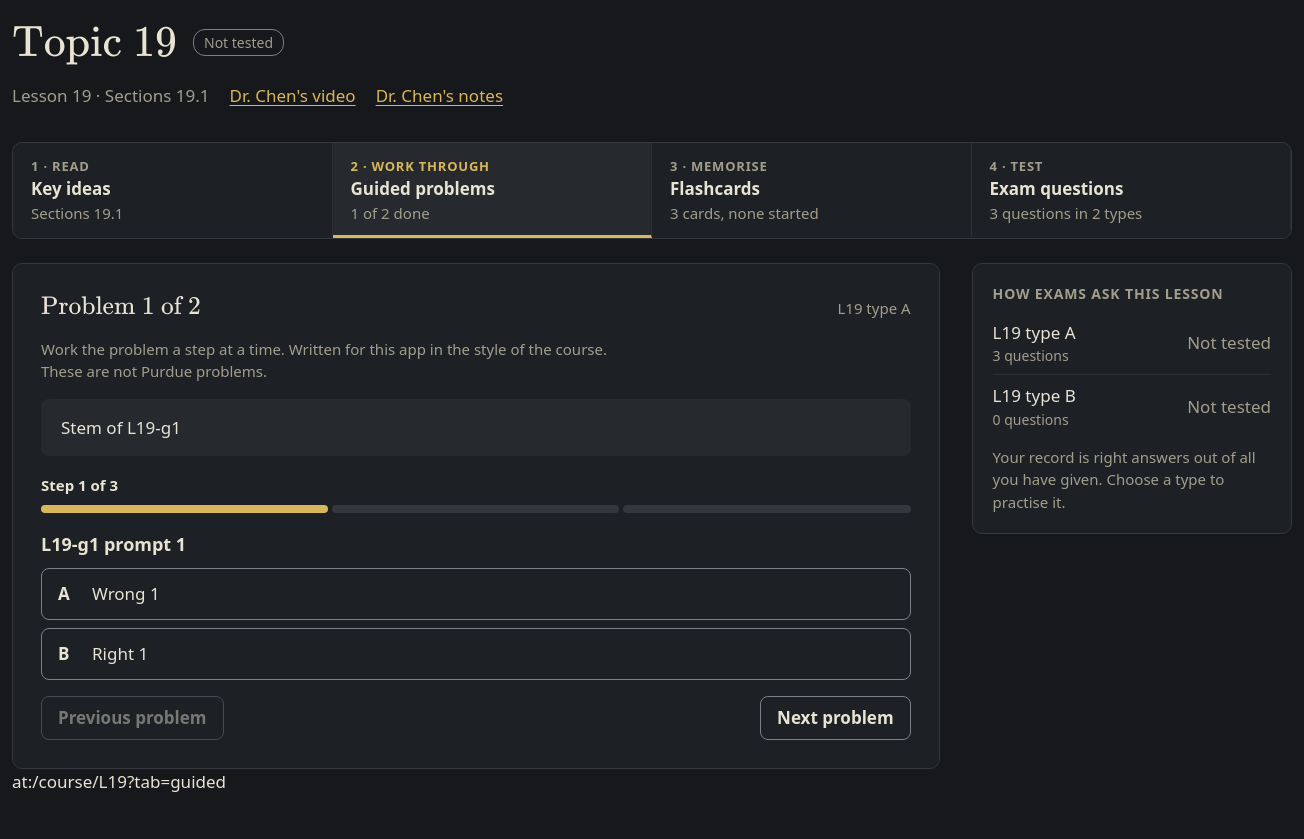
Test case: guided problems are worked one at a time, and are marked done and saved once finished
Check: the text "These are not Purdue problems" is shown, box left=41, top=338, right=607, bottom=381
Check: the heading "Problem 1 of 2" is shown, box left=41, top=292, right=201, bottom=322
Click the button "B Right 1" at (120, 653), box left=41, top=628, right=911, bottom=680
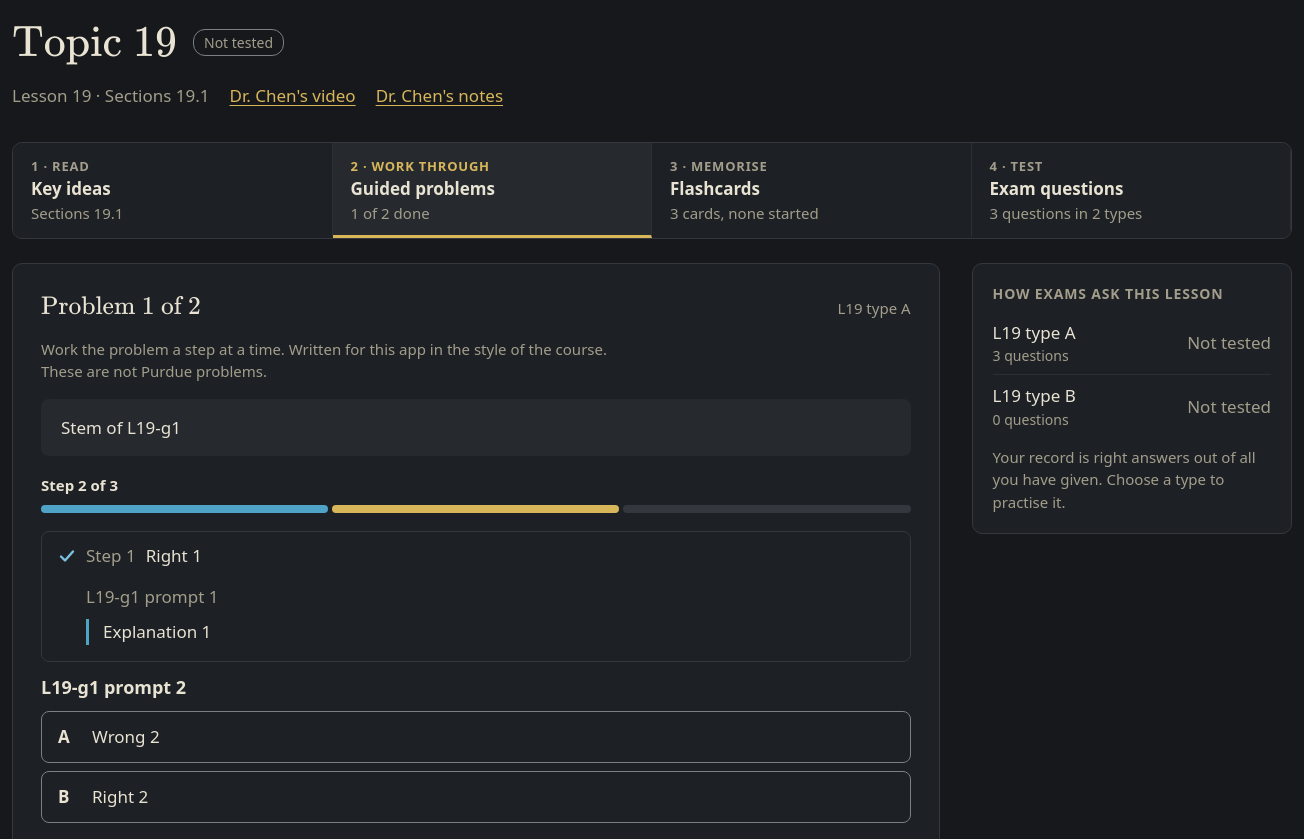
Click the button "B Right 2" at (120, 796), box left=41, top=770, right=911, bottom=822
(page scrolled)
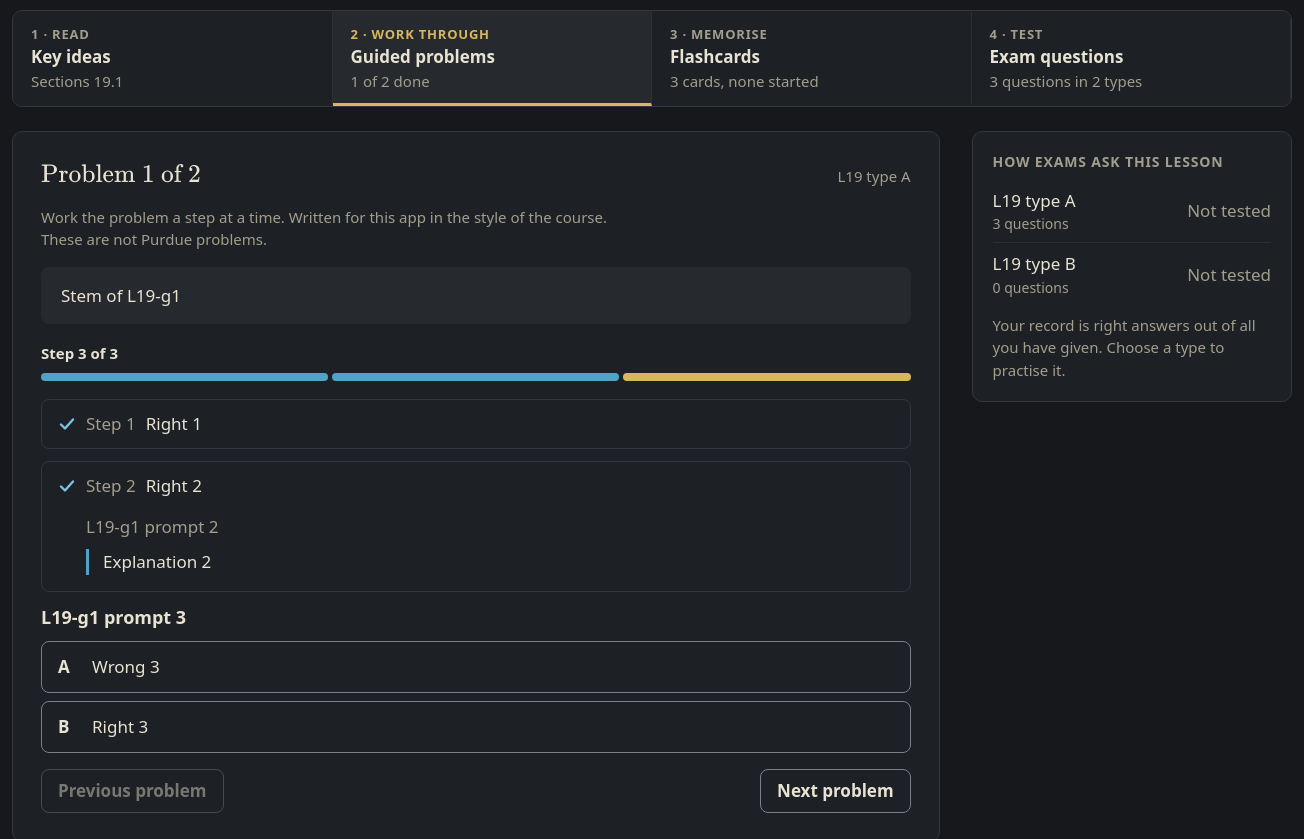
Click the button "B Right 3" at (120, 726), box left=41, top=700, right=911, bottom=752
(page scrolled)
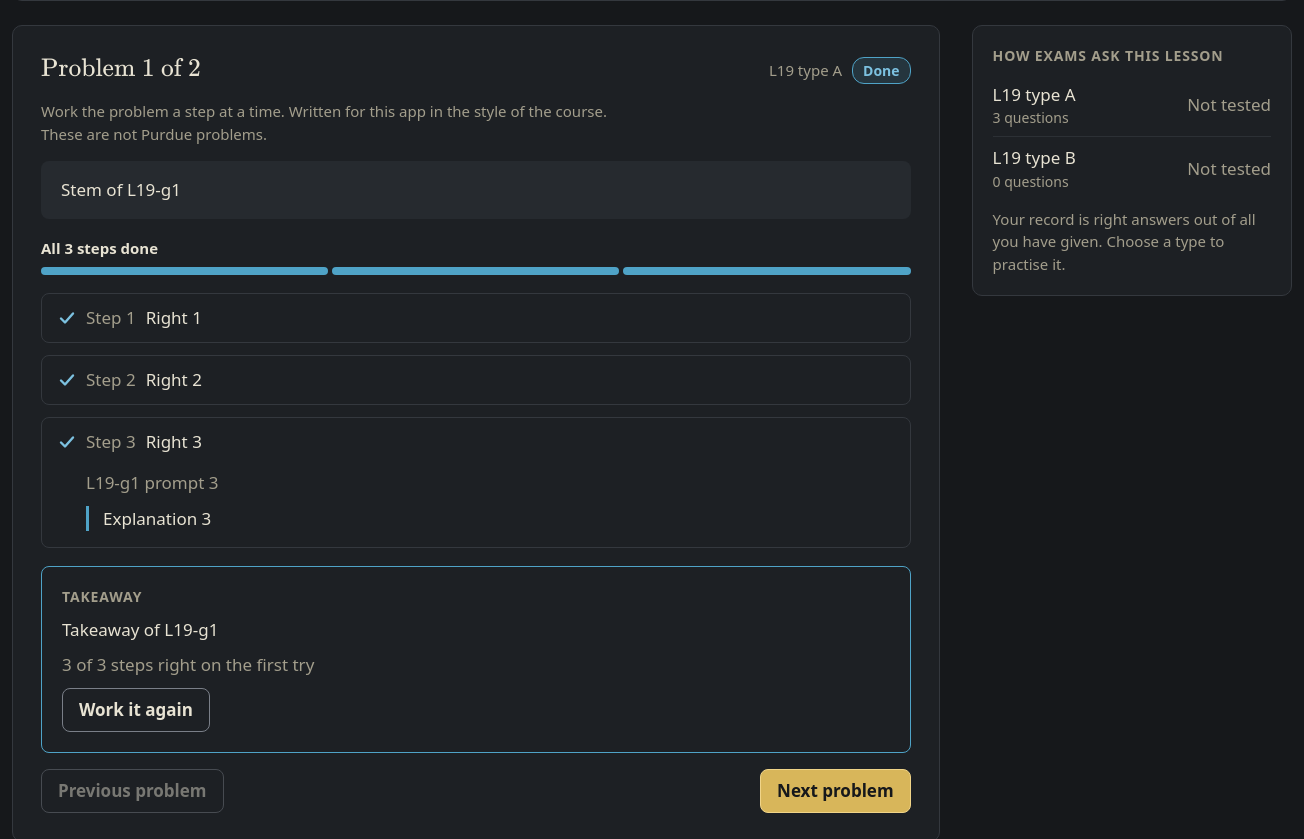
Check: the text "Done" is shown, box left=852, top=56, right=911, bottom=84
Click the button "Next problem" at (835, 791), box left=760, top=769, right=911, bottom=813
(page scrolled)
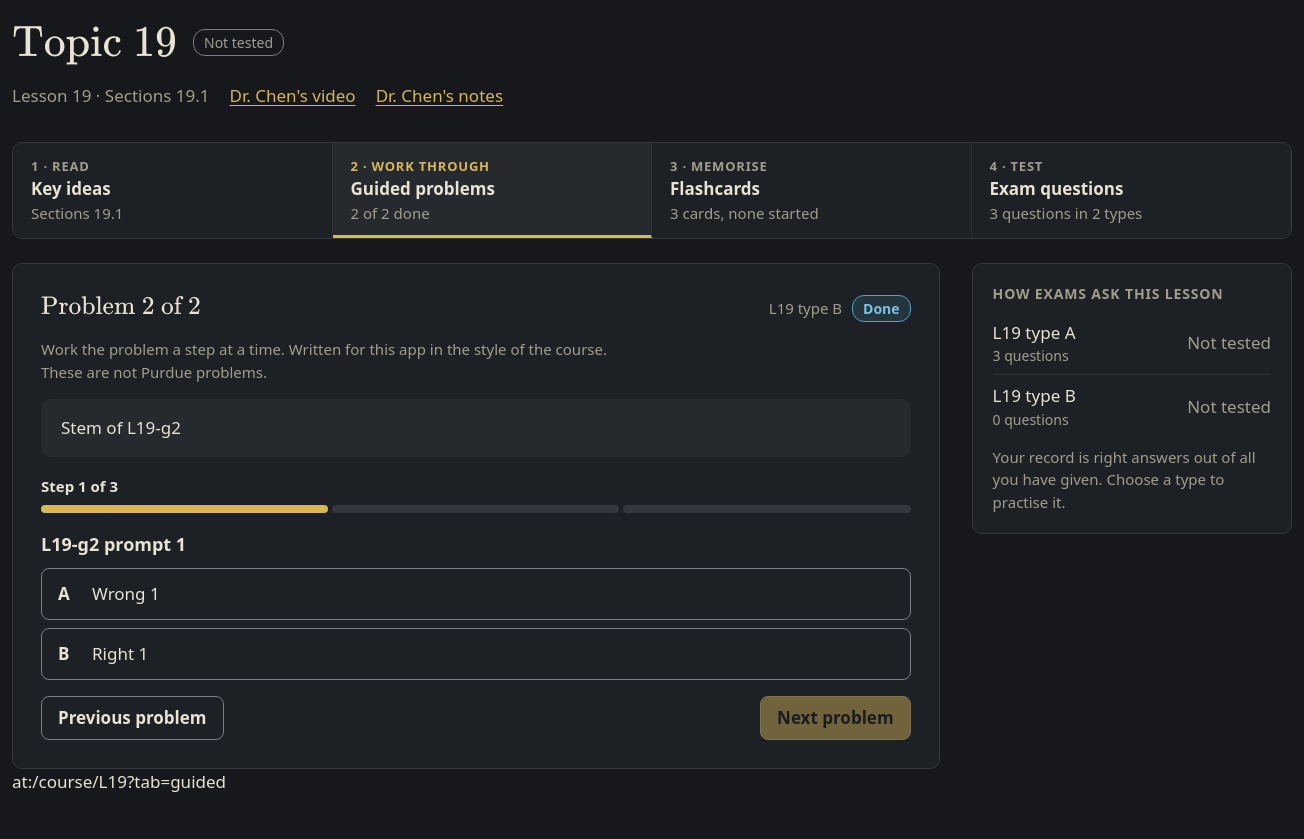
Check: the text "Done" is shown, box left=852, top=294, right=911, bottom=322
Check: the heading "Problem 2 of 2" is shown, box left=41, top=292, right=201, bottom=322
Check: the text "Stem of L19-g2" is shown, box left=61, top=416, right=181, bottom=439
